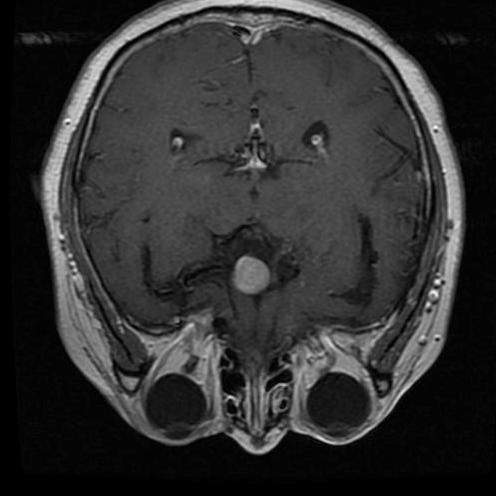Tumour-Pituitary: (228, 257, 274, 296)
